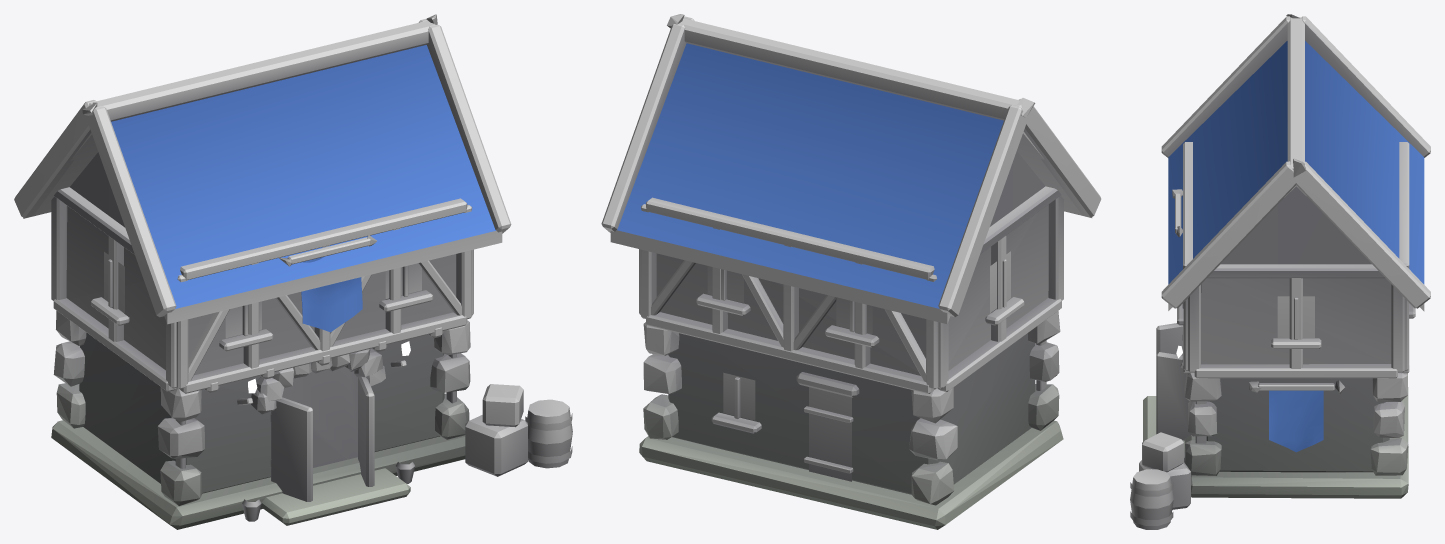
File: barracks_0_2.glb
3 views of the same model, side by side, from view 1: azimuth 30°, elevation 25°; view 2: azimuth 150°, elevation 25°; view 3: azimuth 270°, elevation 25° (orthographic). The views are drawn at different scales.
Parts seen in each view (by area): view 1: Tower; view 2: Tower; view 3: Tower.
Part boxes in pixels (left/top/right/bottom): Tower: left=14, top=14, right=572, bottom=529; Tower: left=601, top=14, right=1101, bottom=529; Tower: left=1130, top=14, right=1430, bottom=529.
Size of the model in its own units: 3.77 by 3.53 by 2.75.
